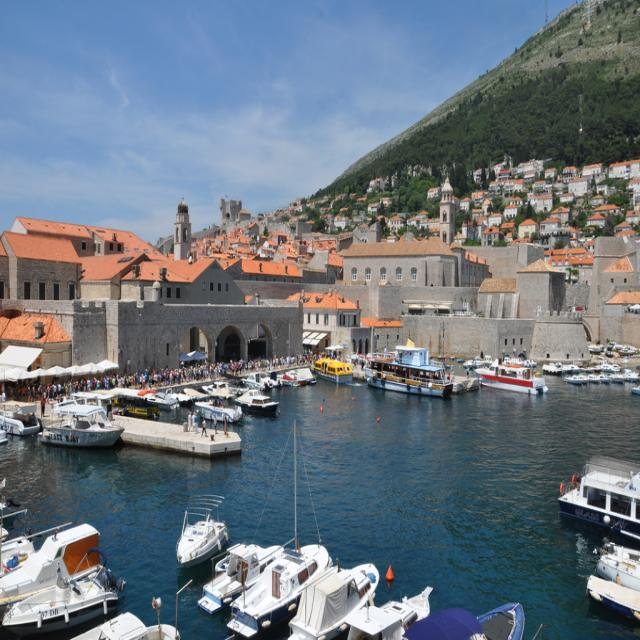Boat: (198, 422, 544, 640), (0, 547, 123, 639), (0, 519, 102, 614), (67, 581, 194, 639), (562, 466, 638, 542), (580, 536, 640, 618), (365, 348, 457, 399), (174, 494, 231, 572), (37, 401, 124, 445), (477, 358, 548, 393), (197, 400, 239, 432), (311, 352, 350, 386), (236, 387, 280, 415), (0, 407, 38, 437), (568, 376, 640, 388)
